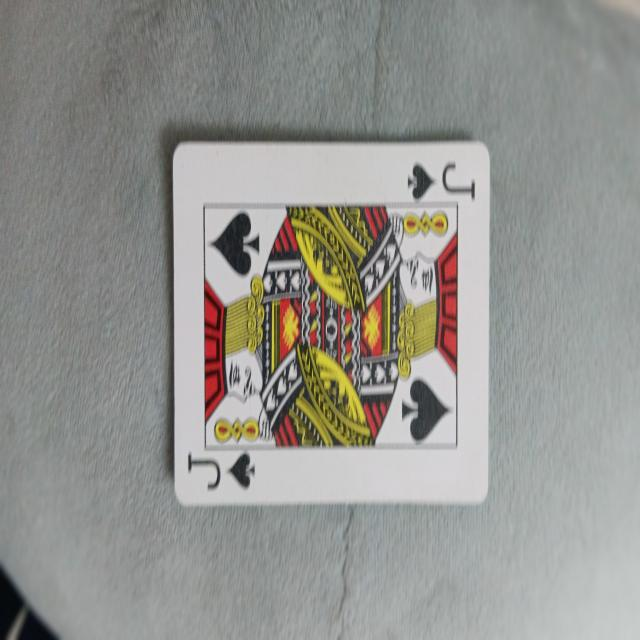JS: (172, 141, 492, 507)
